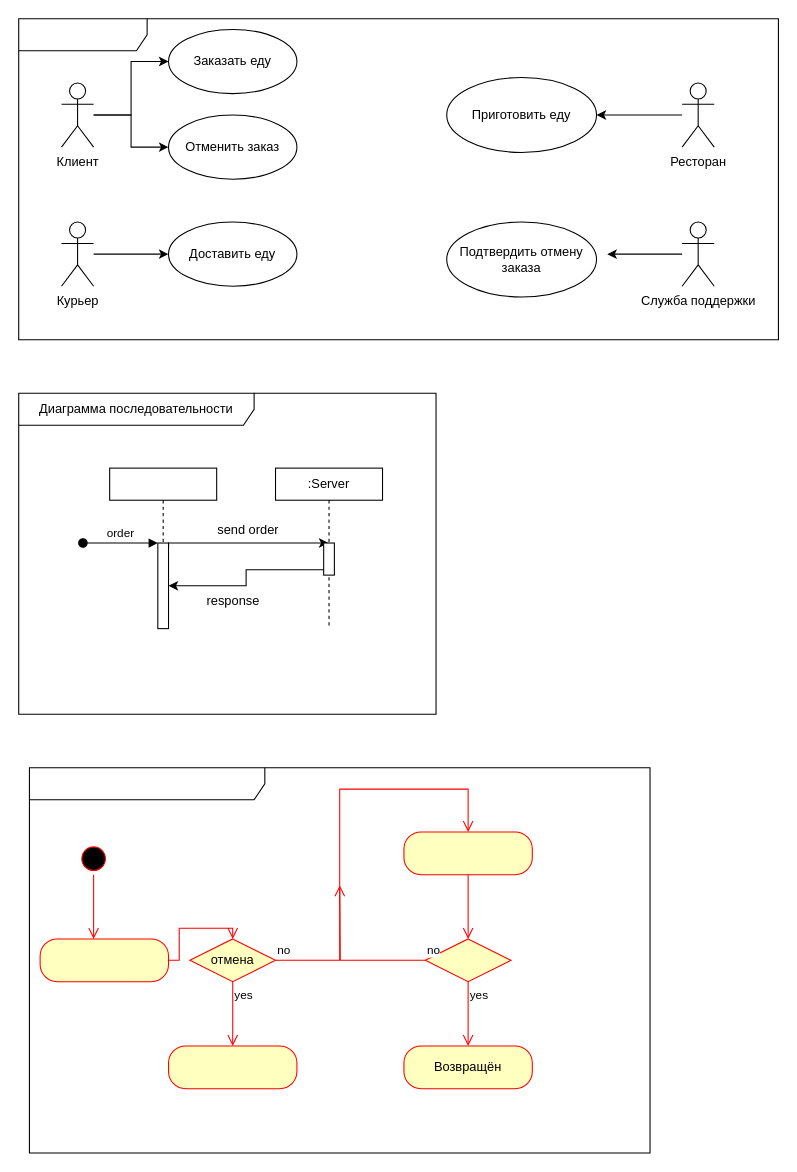
The diagram is 797 pixels wide and 1172 high, and some of its shapes have lost their labels. Each missing label, with the box of its shape:
:Client: (109, 467, 217, 543)
Use Cases: (18, 18, 778, 340)
возврат: (424, 938, 511, 982)
Диаграмма состояний: (28, 767, 650, 1153)
доставлен: (403, 831, 532, 875)
Отменён: (167, 1045, 297, 1089)
отправлен: (39, 938, 169, 982)
